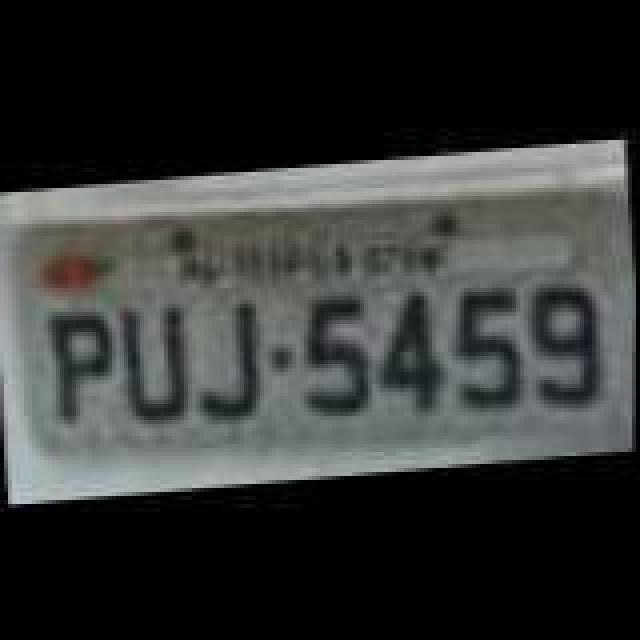4: (370, 288, 454, 416)
5: (436, 278, 524, 410), (302, 296, 378, 416)
9: (518, 276, 610, 412)
J: (194, 298, 270, 422)
P: (44, 310, 124, 434)
U: (116, 298, 196, 422)
